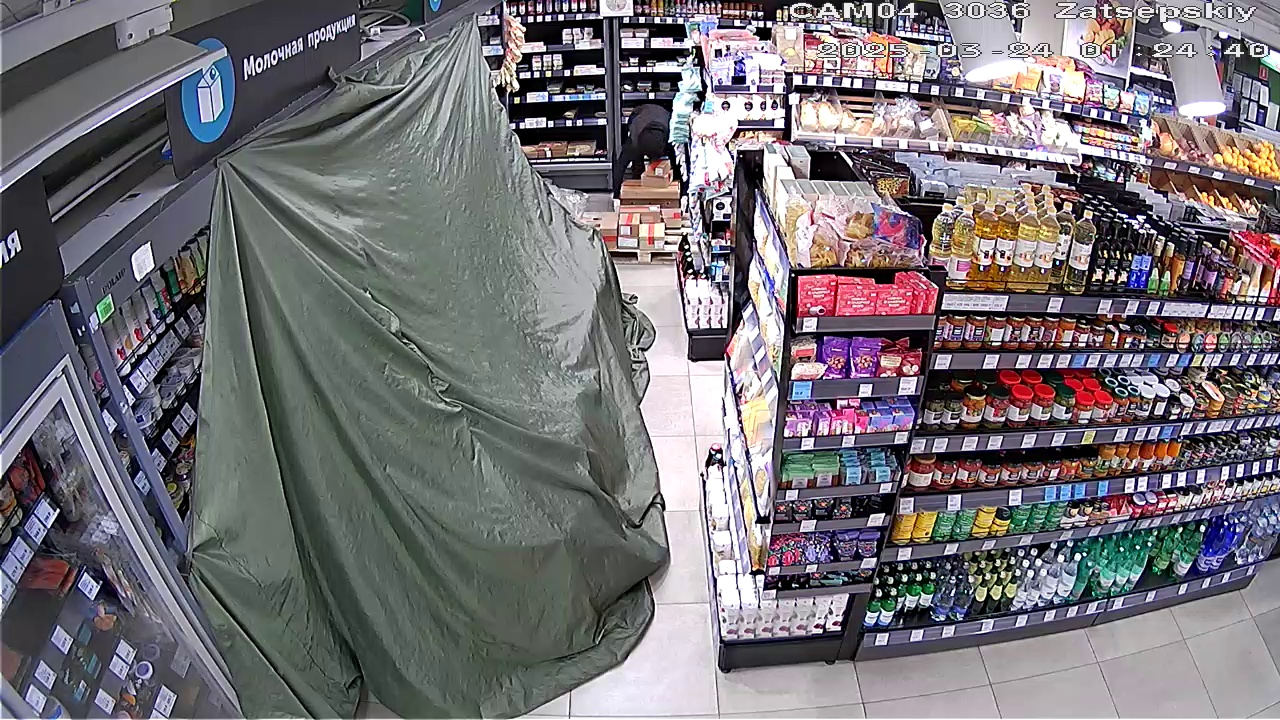Human: (605, 99, 688, 183)
dome: (177, 12, 666, 719)
pallet: (602, 183, 694, 270)
